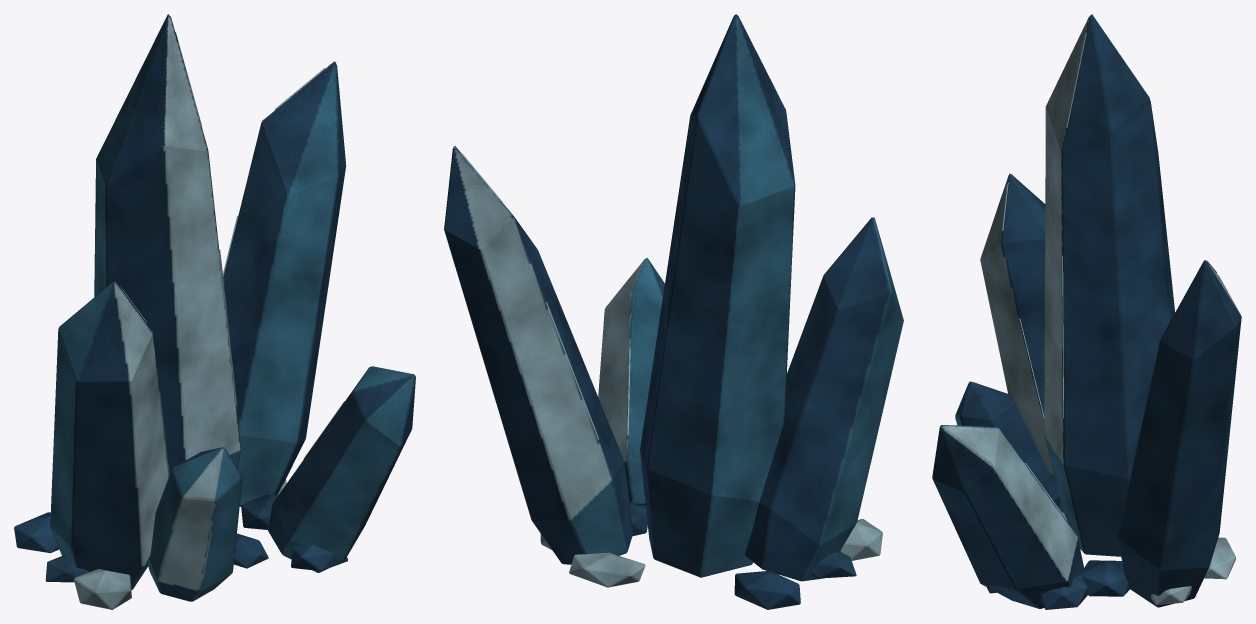
File: ice_cluster.glb
3 renders of one model, left to right at view 1: azimuth 30°, elevation 25°; view 2: azimuth 150°, elevation 25°; view 3: azimuth 270°, elevation 25°, orthographic. The views are drawn at different scales.
Parts seen in each view (by area): view 1: Body_Baked.052; view 2: Body_Baked.052; view 3: Body_Baked.052.
Part boxes in pixels (x1,y1,x2,y2): Body_Baked.052: (14, 14, 415, 609); Body_Baked.052: (444, 14, 903, 609); Body_Baked.052: (932, 14, 1241, 609).
Size of the model in its own units: 1.73 by 2.53 by 1.33.
Materials: 1 (1 with a texture image).
